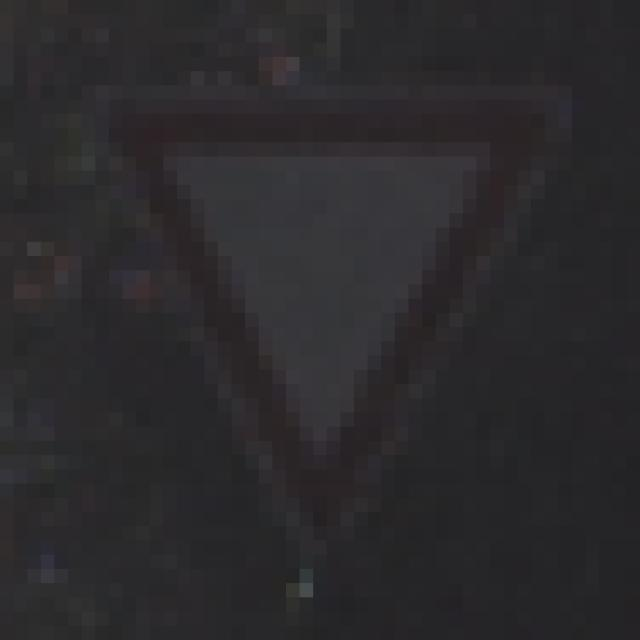Give Way: (83, 86, 573, 570)
